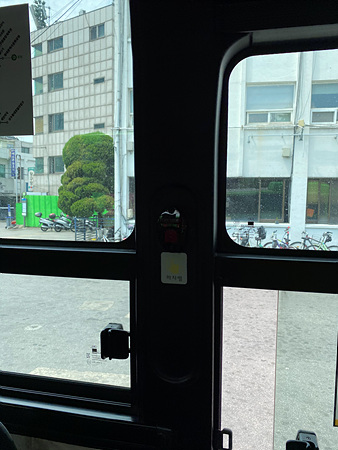bell: (154, 208, 190, 254)
